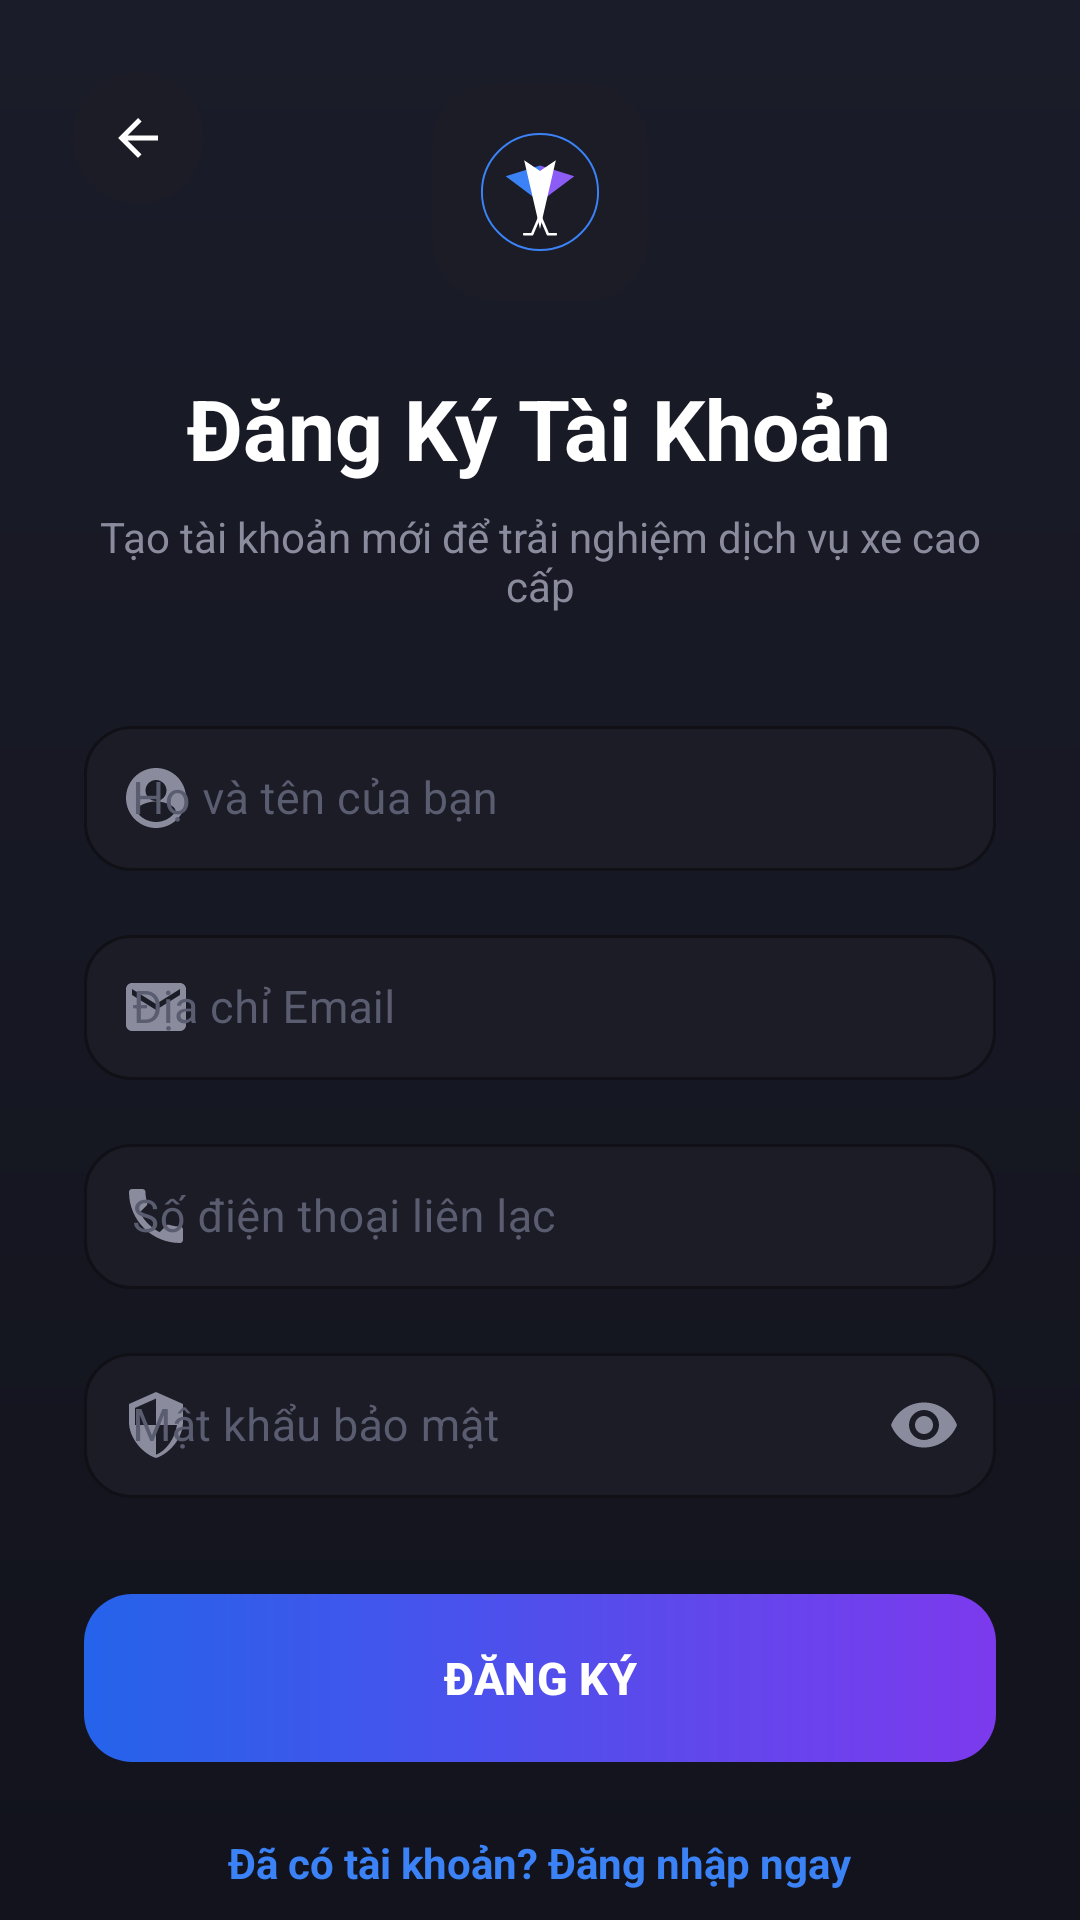

Icon click points for this 1080x1920 phone screenshot, format [x,y]:
arrow back: [138,138]
